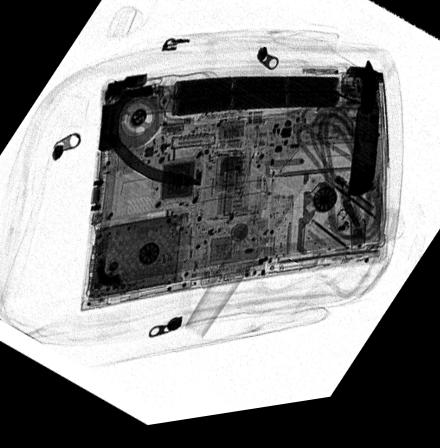Bullet: (346, 67, 380, 209)
